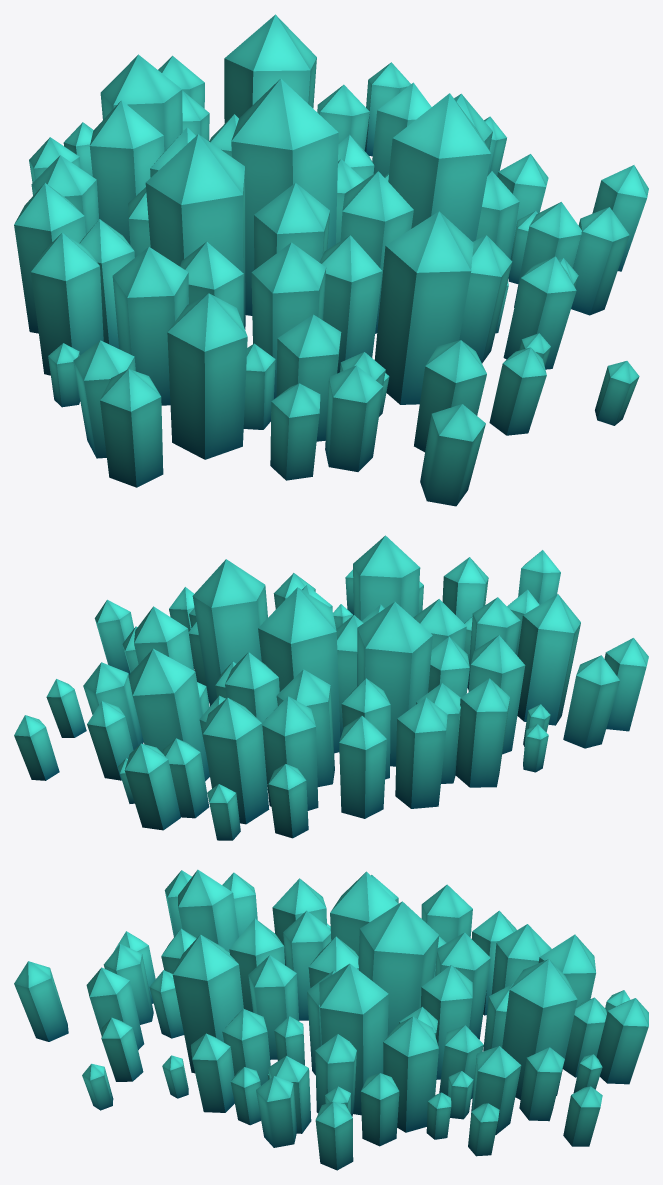
The model's file is crystals_01.fbx.
3 views of the same model, one above another, from view 1: azimuth 30°, elevation 25°; view 2: azimuth 150°, elevation 25°; view 3: azimuth 270°, elevation 25° (orthographic). The views are drawn at different scales.
Parts seen in each view (by area): view 1: crystals_01; view 2: crystals_01; view 3: crystals_01.
Part boxes in pixels (x1,y1,x2,y2): crystals_01: (14, 14, 648, 506); crystals_01: (14, 535, 648, 840); crystals_01: (14, 869, 648, 1170).
Size of the model in its own units: 450 by 150 by 524.
